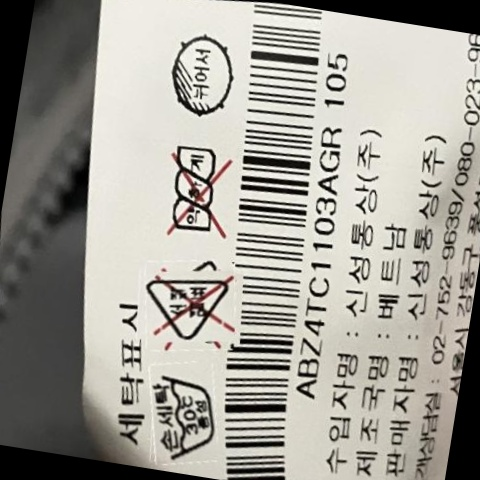DN_wring: (155, 136, 241, 250)
dry_flat_in_shade: (159, 24, 246, 125)
hand_wash: (145, 359, 226, 469)
non_chlorine_bleach: (144, 256, 236, 350)
